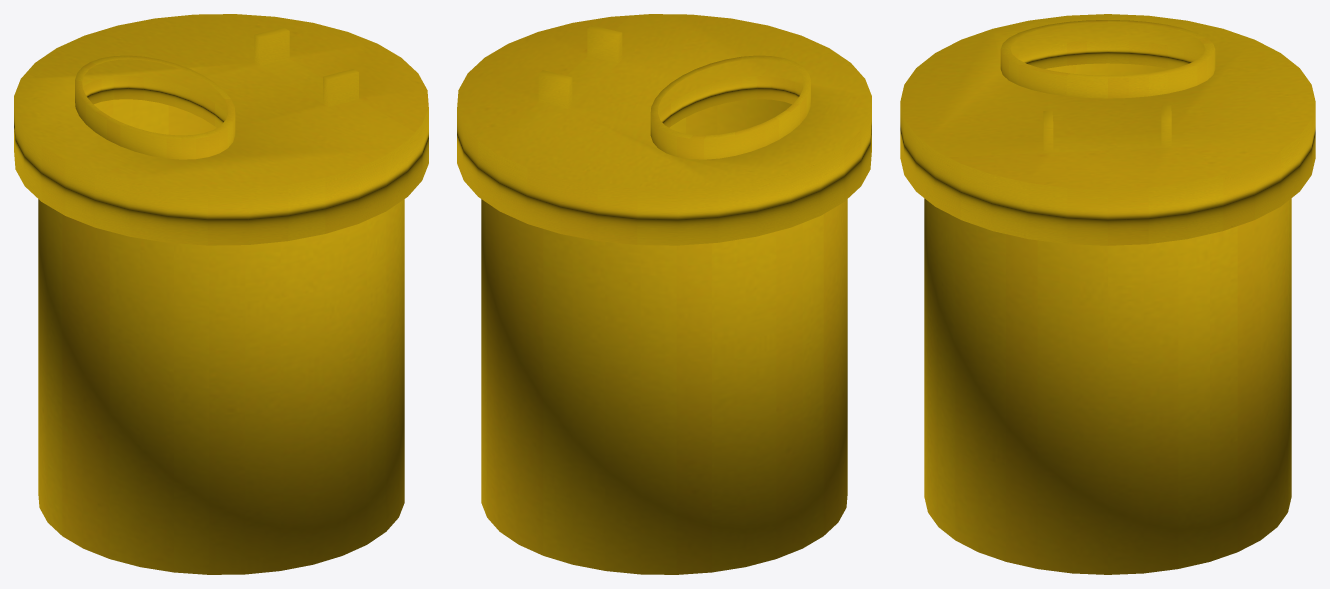
The model's file is wasteBin.gltf.
3 renders of one model, left to right at view 1: azimuth 30°, elevation 25°; view 2: azimuth 150°, elevation 25°; view 3: azimuth 270°, elevation 25°, orthographic.
Parts seen in each view (by area): view 1: Hauptteil, Obenteil, Lock; view 2: Hauptteil, Obenteil, Lock; view 3: Hauptteil, Obenteil, Lock.
Part boxes in pixels (x1=…): Hauptteil: x1=38, y1=99, x2=404, y2=574; Obenteil: x1=14, y1=14, x2=428, y2=245; Lock: x1=75, y1=55, x2=235, y2=159; Hauptteil: x1=481, y1=99, x2=847, y2=574; Obenteil: x1=457, y1=14, x2=871, y2=245; Lock: x1=650, y1=55, x2=810, y2=159; Hauptteil: x1=924, y1=63, x2=1291, y2=574; Obenteil: x1=900, y1=14, x2=1315, y2=245; Lock: x1=1000, y1=20, x2=1215, y2=98.
Size of the model in its own units: 2.13 by 2.4 by 2.13.
